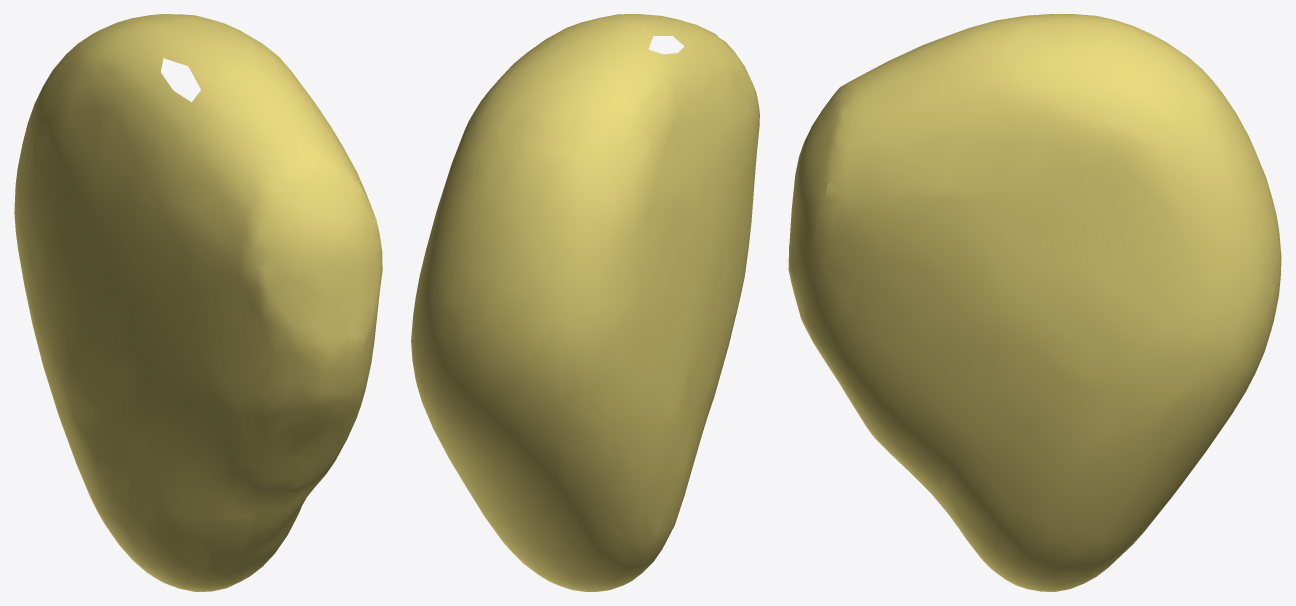
File: culmen.glb
3 renders of one model, left to right at view 1: azimuth 30°, elevation 25°; view 2: azimuth 150°, elevation 25°; view 3: azimuth 270°, elevation 25°, orthographic.
Parts seen in each view (by area): view 1: Culmen; view 2: Culmen; view 3: Culmen.
Boxes of the visible parts, x1,y1,x2,y2 form: Culmen: (14, 14, 382, 591); Culmen: (411, 14, 759, 591); Culmen: (788, 14, 1281, 591).
Bounding box in the file's own units: 0.0104 × 0.0239 × 0.0193.
